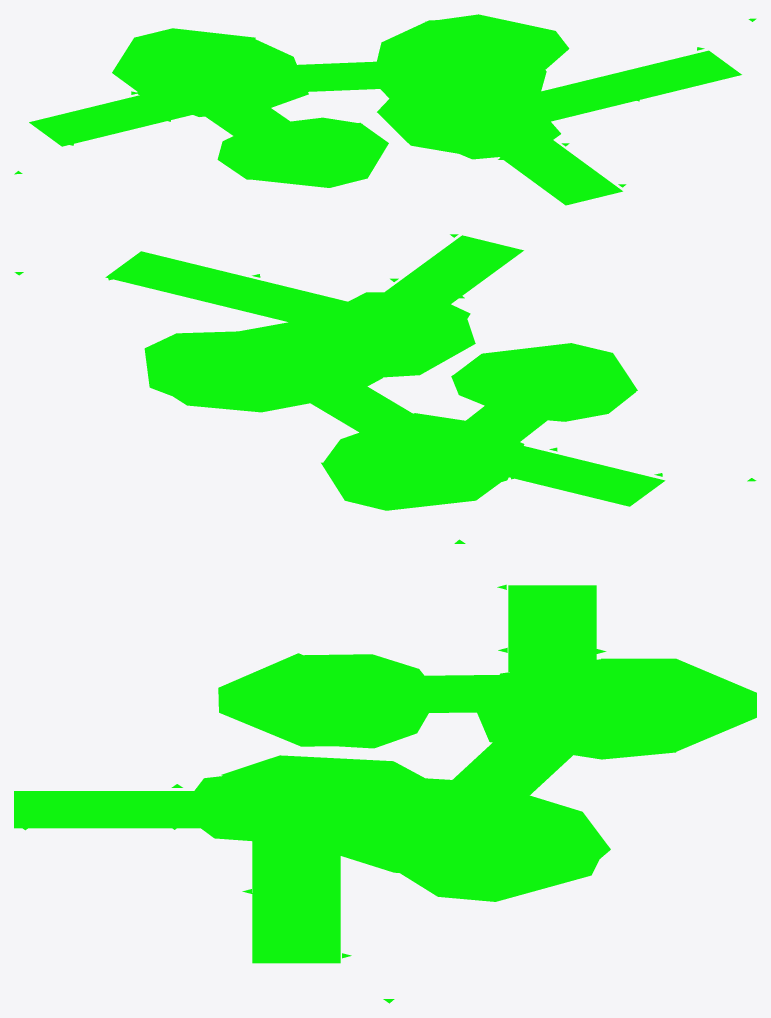
File: s02b_tc3-floor.glb
3 views of the same model, one above another, from view 1: azimuth 30°, elevation 25°; view 2: azimuth 150°, elevation 25°; view 3: azimuth 270°, elevation 25° (orthographic). The views are drawn at different scales.
Visible parts, largest first — view 1: collision_floor-colonly; view 2: collision_floor-colonly; view 3: collision_floor-colonly.
Boxes of the visible parts, left/top/right/bottom form: collision_floor-colonly: left=14, top=14, right=756, bottom=205; collision_floor-colonly: left=14, top=234, right=756, bottom=510; collision_floor-colonly: left=14, top=539, right=756, bottom=1003.
Bounding box in the file's own units: 74.52 × 0.3164 × 50.42.
